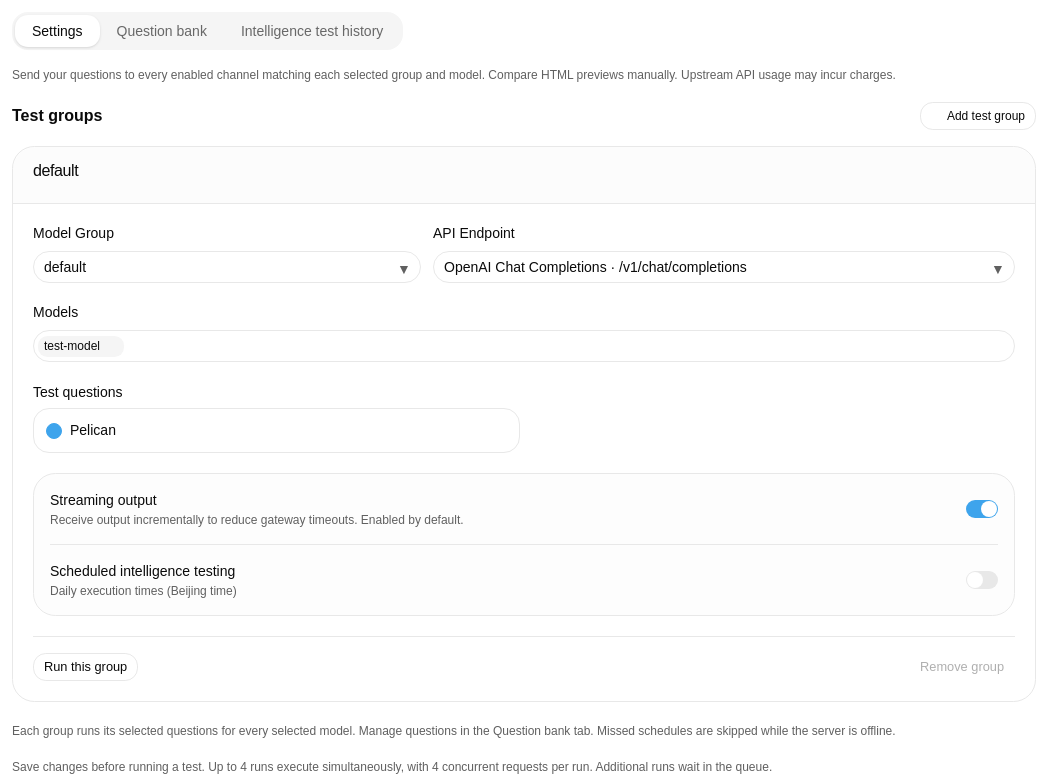
separates settings from records and preserves unsaved edits across tabs
Step 1. Click the tab "Question bank" → (162, 31), box [100,15,224,47]
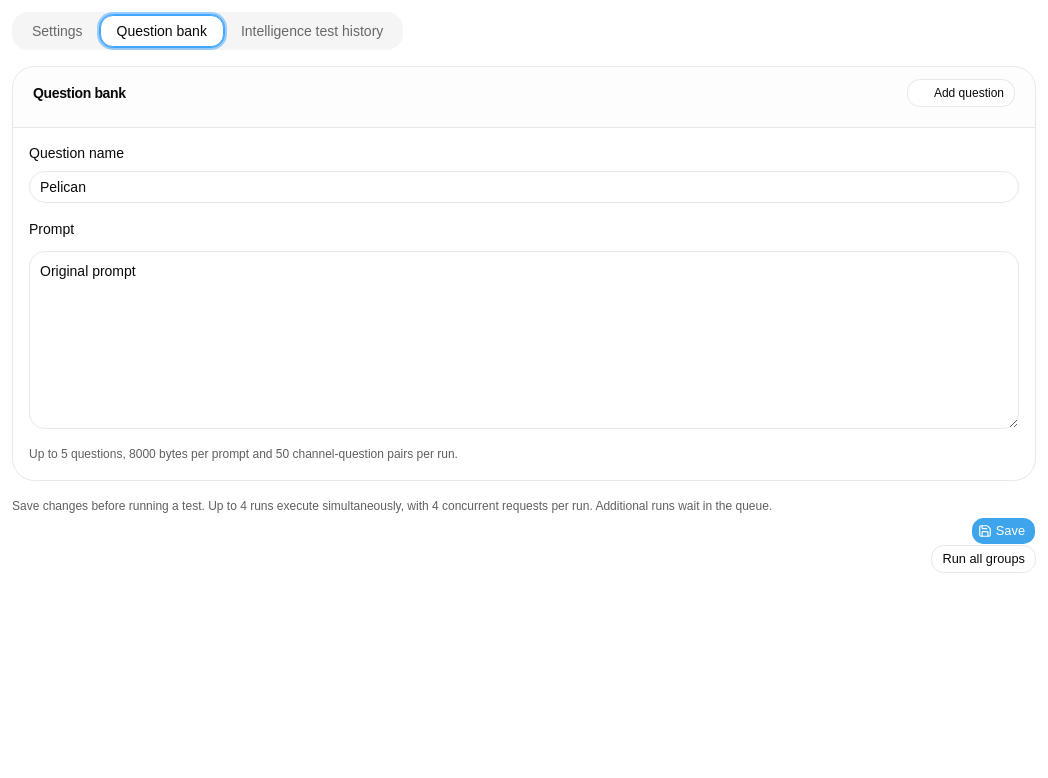
Expected: the text "run-1" is not shown
Result: the text box labelled "Prompt" is shown
Step 2. Replace the text in the text box labelled "Prompt" with "Edited prompt" → (524, 340), box [29,251,1019,429]
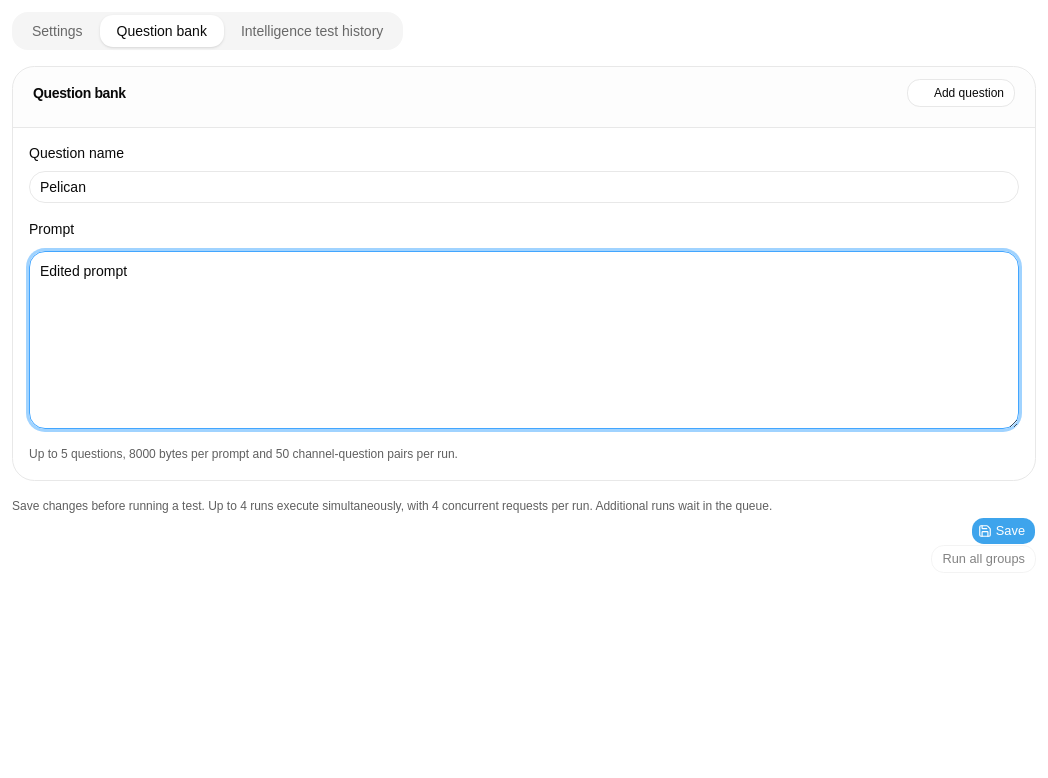
Step 3. Click the tab "Intelligence test history" → (312, 31), box [224,15,400,47]
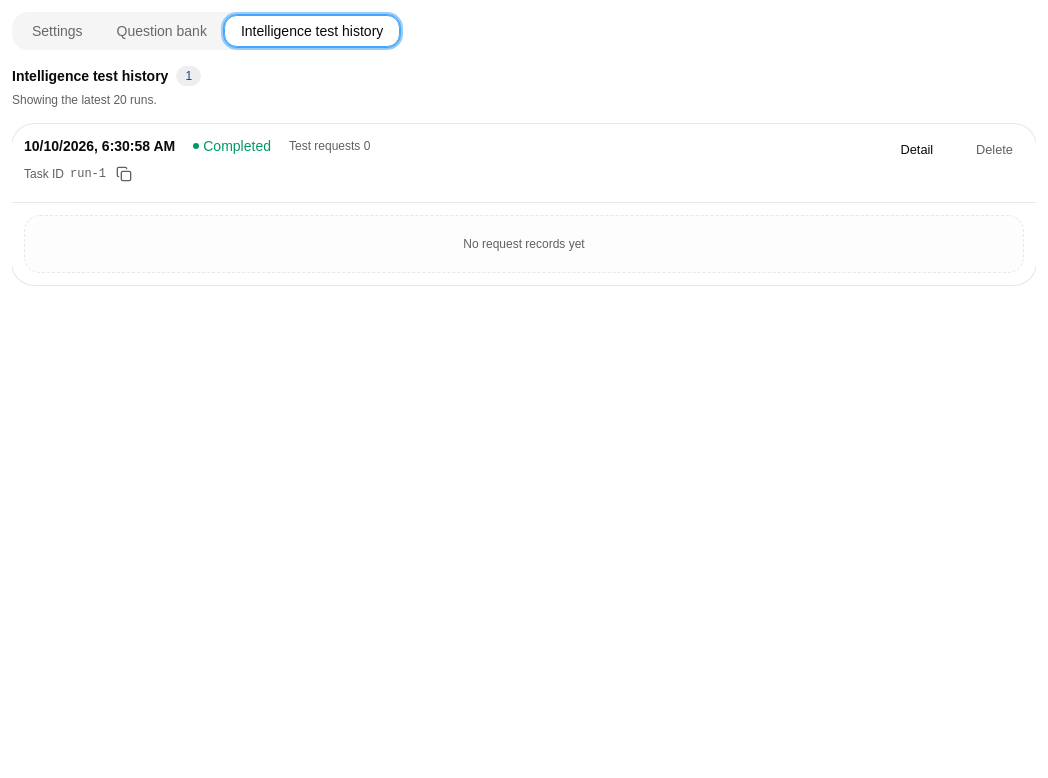
Result: the text "run-1" is shown at [70,166,106,182]
Result: the label labelled "Prompt" is gone
Result: the text "Save" is gone
Step 4. Click the tab "Question bank" → (162, 31), box [100,15,224,47]
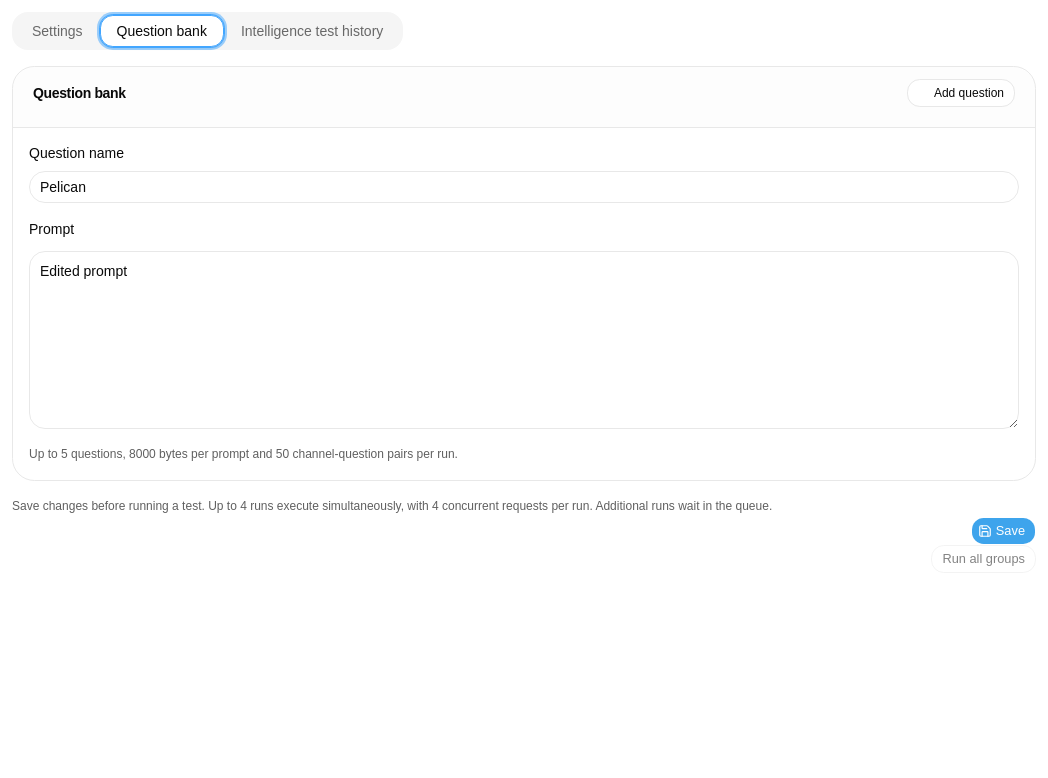
Result: the button "Save" is shown at [971,516,1036,544]
Result: the text "run-1" is gone
